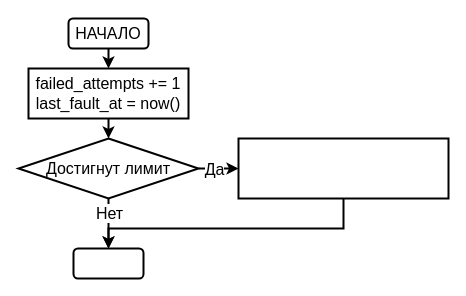
This 466x296 diagram has some shape labels left out. The shapes that lost their labels are listed below. From the top down, each one's box as (x1, y1, x2, y2) in pixels, then its label:
(237, 137, 449, 199): Полное удаление данных из зашифрованного хранилища
(72, 247, 144, 279): КОНЕЦ
